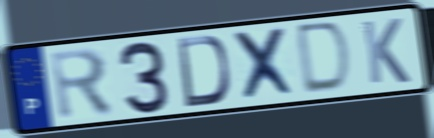3: (115, 38, 169, 117)
D: (296, 19, 355, 97), (175, 33, 233, 109)
K: (359, 16, 413, 87)
R: (47, 45, 118, 123)
X: (228, 26, 301, 104)
